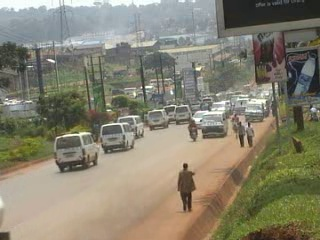Car: (191, 106, 213, 128), (209, 101, 231, 120)
Motorcycle: (186, 117, 200, 143), (229, 111, 241, 135)
